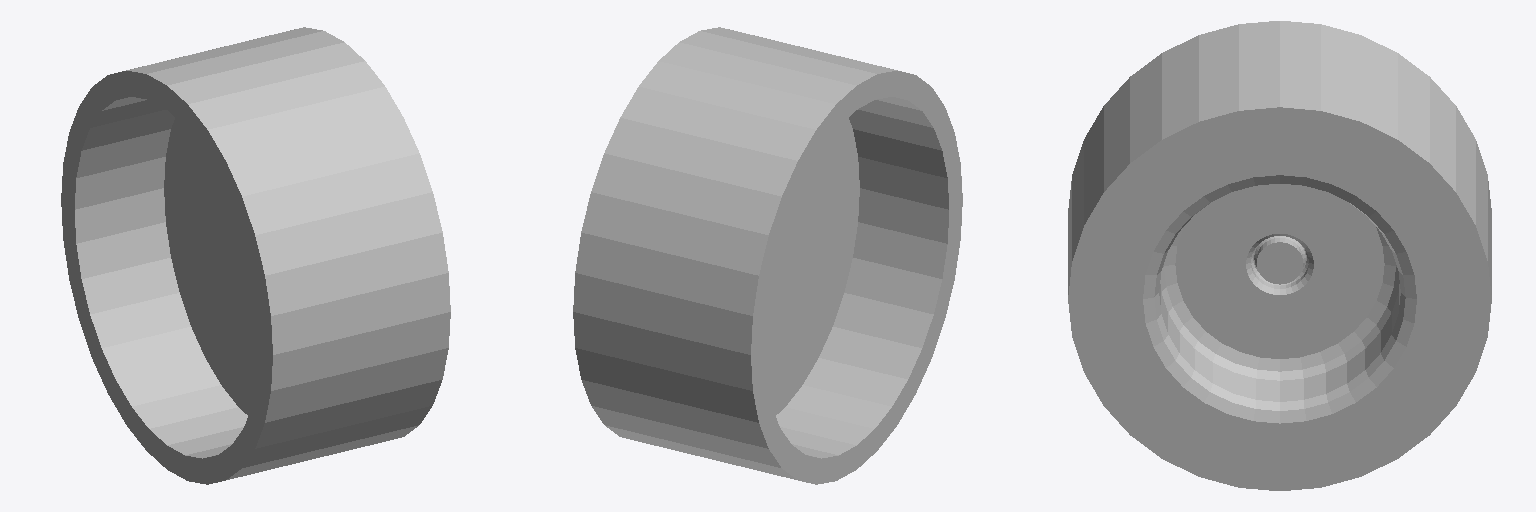
Rendered from roadster_wheel_02.bbc40837.obj.
The picture shows the model from 3 angles: view 1: azimuth 30°, elevation 25°; view 2: azimuth 150°, elevation 25°; view 3: azimuth 270°, elevation 25°; orthographic projection.
Parts seen in each view (by area): view 1: Circle; view 2: Circle; view 3: Circle.
Boxes of the visible parts, x1=… form: Circle: x1=61, y1=27, x2=450, y2=484; Circle: x1=573, y1=27, x2=962, y2=484; Circle: x1=1068, y1=21, x2=1491, y2=490.
Bounding box in the file's own units: 0.1508 × 0.3114 × 0.3114.